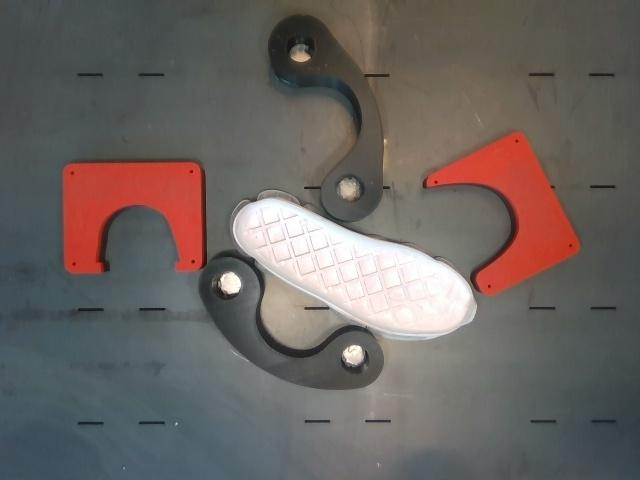shoes: (234, 199, 475, 334)
